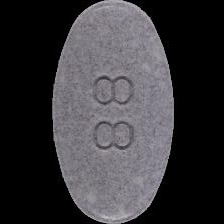0615-4569: (0, 0, 224, 224)
